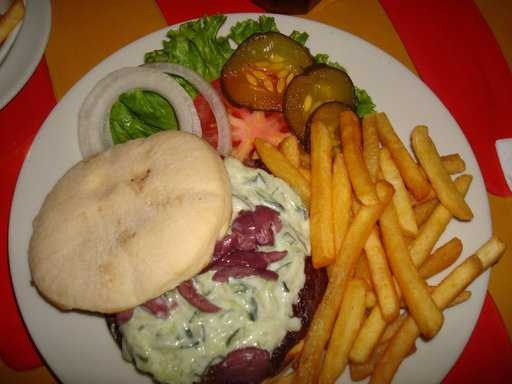hamburger: (27, 115, 311, 366)
